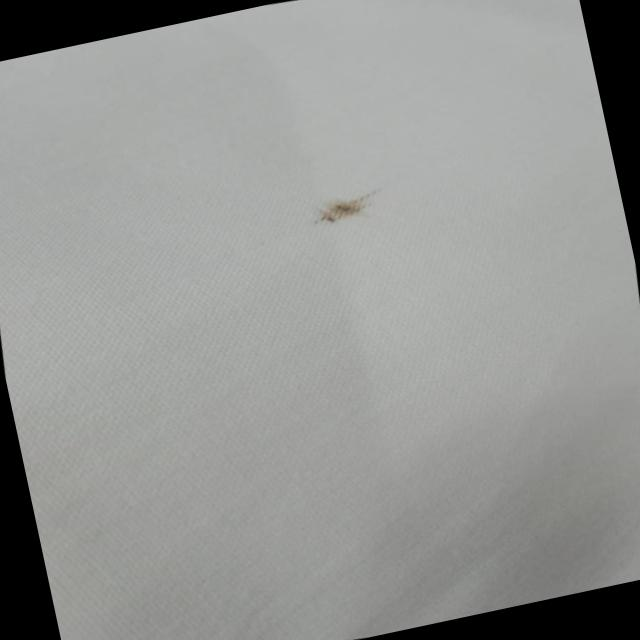stain: (303, 174, 397, 244)
